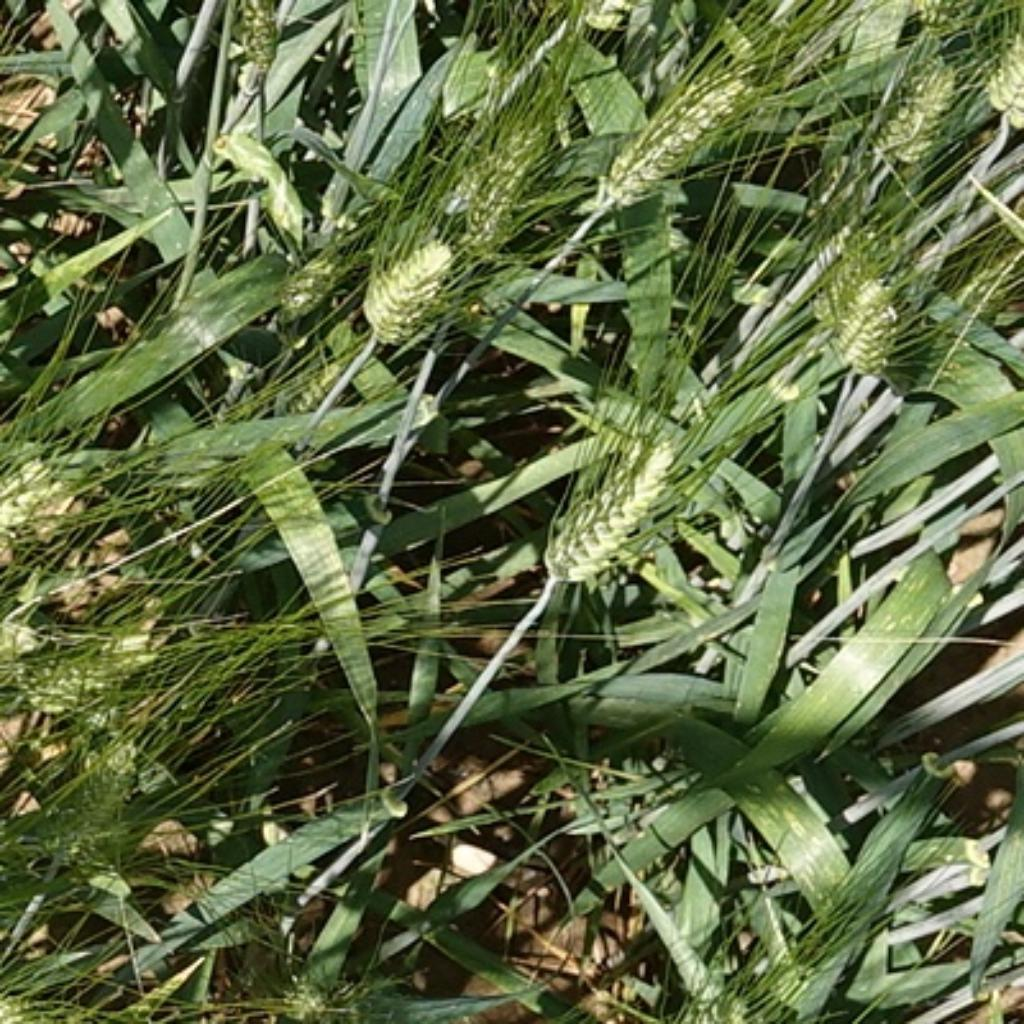0-0: (607, 54, 759, 205), (540, 428, 676, 591), (449, 103, 558, 240), (869, 46, 965, 163), (360, 231, 457, 344), (34, 635, 161, 720), (0, 440, 76, 558), (66, 733, 155, 830), (811, 210, 885, 323), (268, 232, 350, 314), (274, 949, 361, 1024), (836, 289, 900, 381), (958, 255, 1024, 330), (217, 2, 286, 71), (981, 33, 1024, 135), (252, 165, 312, 237)
